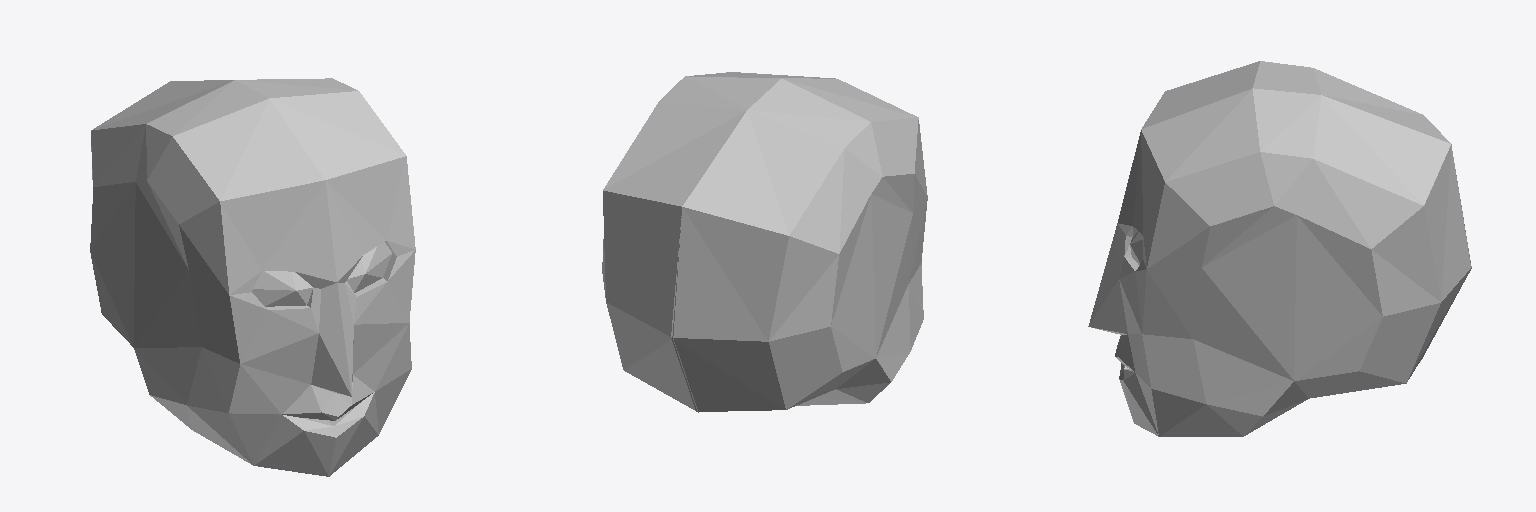
File: head.obj
The picture shows the model from 3 angles: view 1: azimuth 30°, elevation 25°; view 2: azimuth 150°, elevation 25°; view 3: azimuth 270°, elevation 25°; orthographic projection.
Visible parts, largest first — view 1: Cube.001; view 2: Cube.001; view 3: Cube.001.
Part boxes in pixels (bbox=[...]): Cube.001: bbox=[90, 78, 415, 476]; Cube.001: bbox=[602, 72, 927, 412]; Cube.001: bbox=[1088, 61, 1471, 436].
Size of the model in its own units: 1.54 by 2.1 by 2.18.